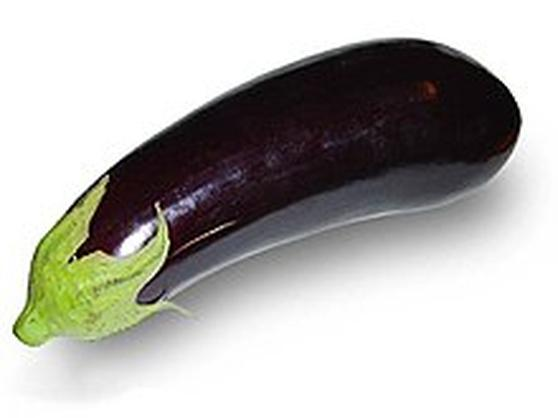eggplant: (18, 33, 526, 356)
